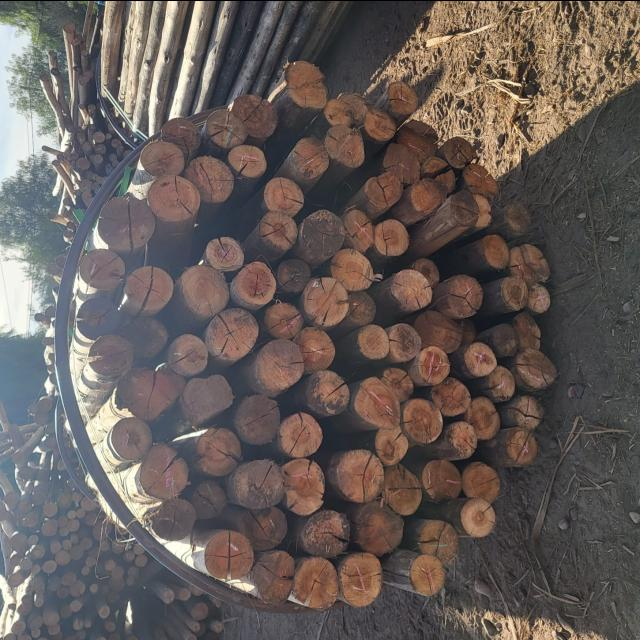package: (73, 57, 556, 611)
